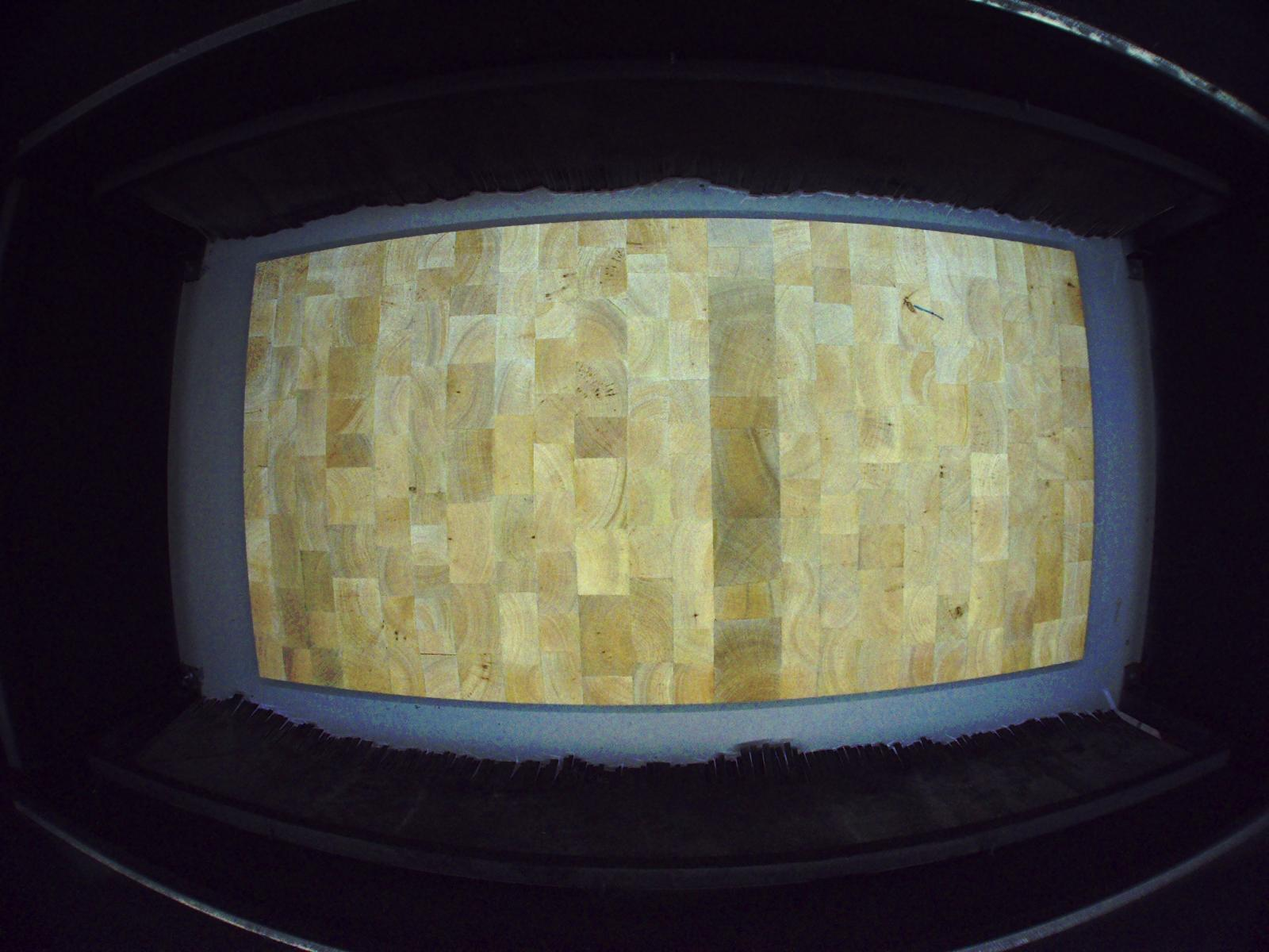sheck_ecuatoriano: (898, 289, 922, 315)
